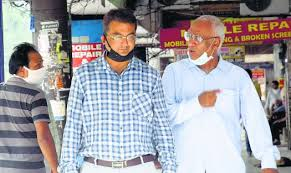mask_weared_incorrect: (184, 19, 220, 66), (100, 17, 138, 61)
